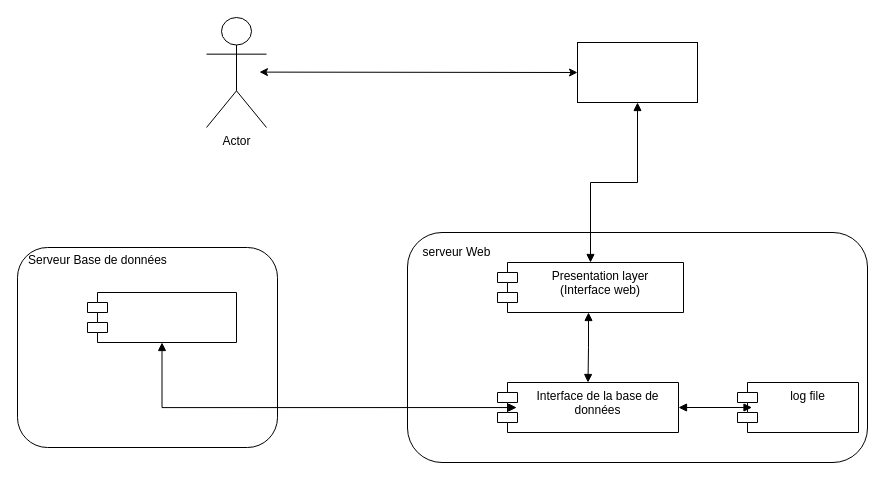
The diagram is 885 pixels wide and 480 high, and some of its shapes have lost their labels. Each missing label, with the box of its shape:
MongoDB Database: (86, 292, 236, 342)
Navigateur Web: (576, 42, 698, 102)
